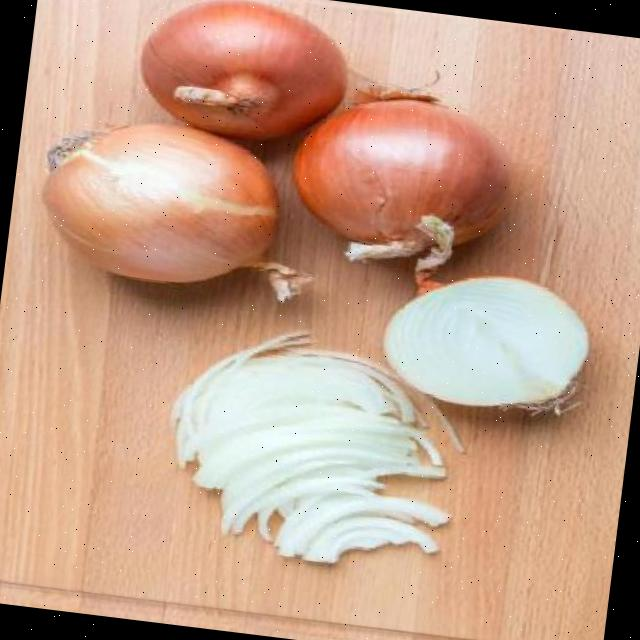Onion: (43, 121, 313, 300), (294, 97, 508, 271), (140, 0, 347, 137)
